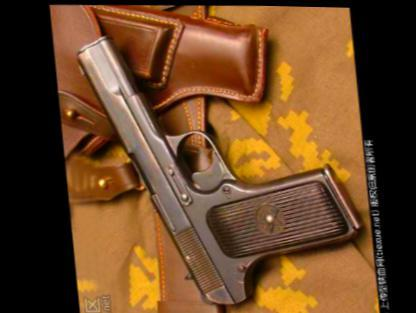pistol: (68, 28, 364, 311)
